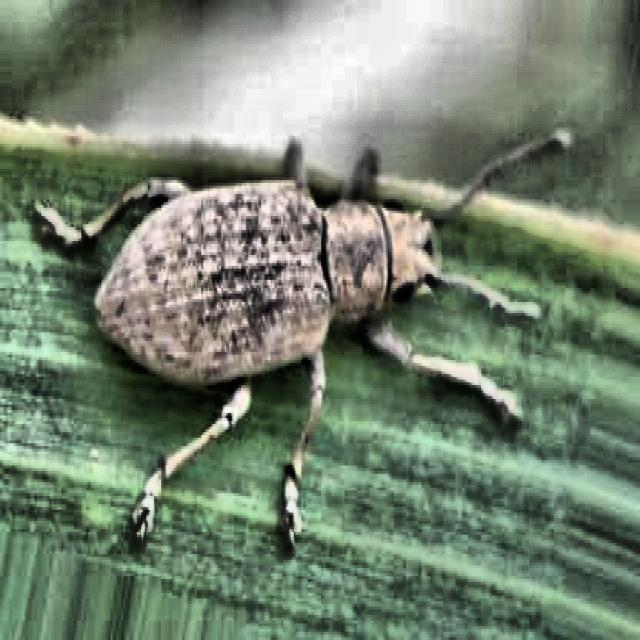Stink bug: (79, 76, 509, 536)
